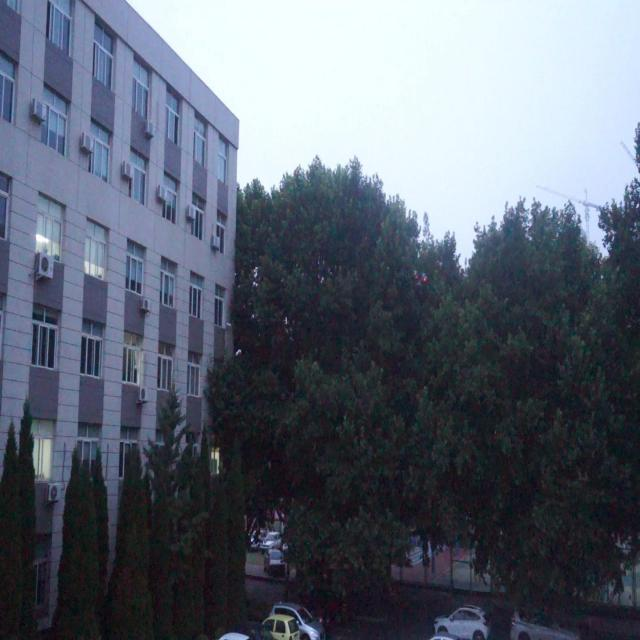UAV: (413, 270, 429, 286)
